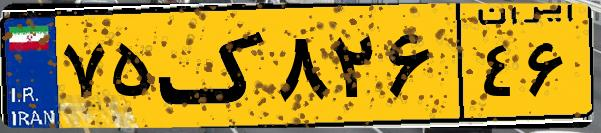2: (330, 28, 385, 110)
4: (475, 38, 525, 113)
5: (110, 28, 158, 98)
6: (385, 28, 445, 110), (525, 38, 570, 115)
7: (57, 26, 110, 100)
8: (270, 28, 330, 110)
ک: (158, 12, 270, 120)
